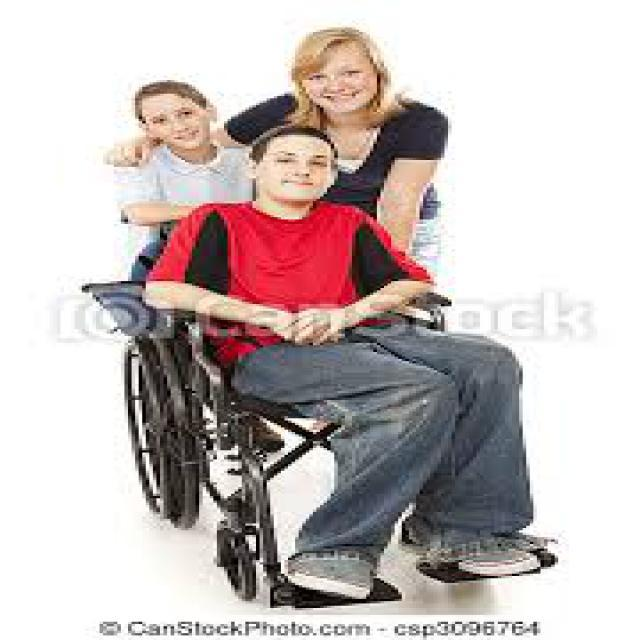wheelchairs: (106, 262, 576, 612)
